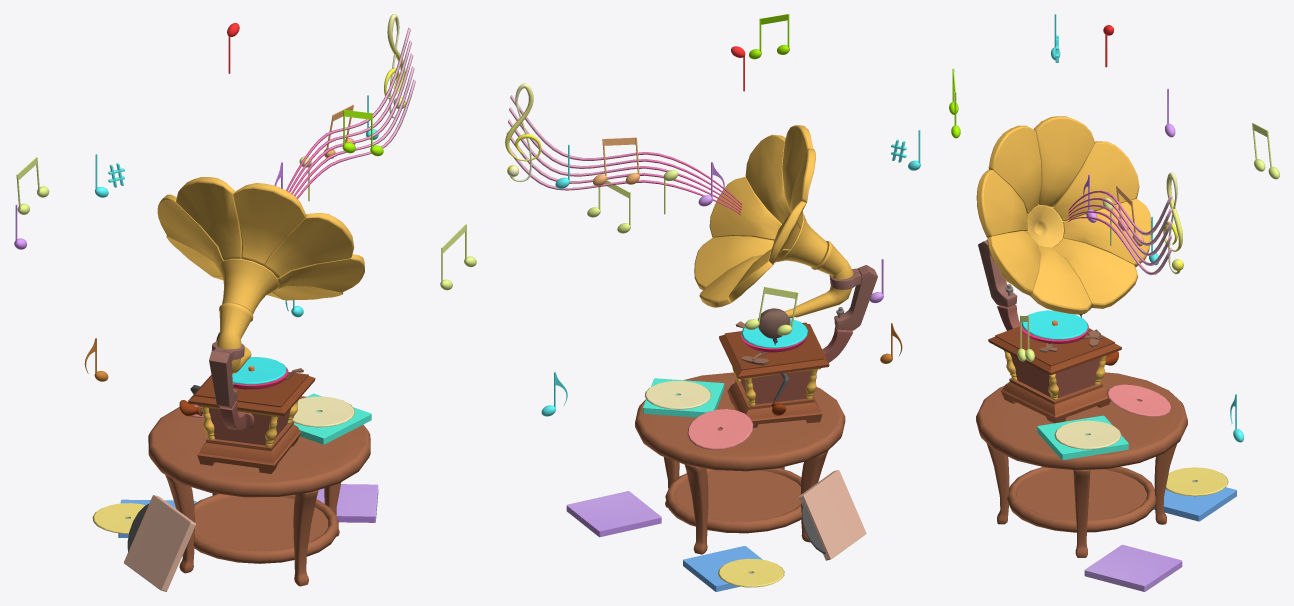
Rendered from Level_P_45.fbx.
3 renders of one model, left to right at view 1: azimuth 30°, elevation 25°; view 2: azimuth 150°, elevation 25°; view 3: azimuth 270°, elevation 25°, orthographic. The views are drawn at different scales.
Visible parts, largest first — view 1: Circle.008, Circle_Curve, Cube.556, VintagePlayer_010.007, VintagePlayer_010.006, VintagePlayer_010.008, BezierCurve.006, Vinyl_Record_21, Vinyl_Record_17, VintagePlayer_010.001, VintagePlayer_010.005, VintagePlayer_010.009 (+11 smaller); view 2: Circle.008, Circle_Curve, BezierCurve.006, Cube.556, VintagePlayer_010.005, Vinyl_Record_21, Cube.554, VintagePlayer_010.006, VintagePlayer_010.004, Vinyl_Record_17, Vinyl_Record_6, Cube.555 (+20 smaller); view 3: Circle.008, Circle_Curve, VintagePlayer_010.008, VintagePlayer_010.009, VintagePlayer_010.003, VintagePlayer_010.007, Cube.554, VintagePlayer_010.002, Vinyl_Record_21, VintagePlayer_010.004, VintagePlayer_010.006, Vinyl_Record_17 (+15 smaller).
Part boxes in pixels (left/top/right/bottom): Circle.008: left=148, top=396, right=370, bottom=497; Circle_Curve: left=193, top=494, right=338, bottom=563; Cube.556: left=124, top=495, right=195, bottom=591; VintagePlayer_010.007: left=233, top=183, right=305, bottom=265; VintagePlayer_010.006: left=263, top=213, right=354, bottom=277; VintagePlayer_010.008: left=176, top=177, right=242, bottom=260; BezierCurve.006: left=286, top=27, right=415, bottom=199; Vinyl_Record_21: left=188, top=372, right=315, bottom=415; Vinyl_Record_17: left=197, top=421, right=301, bottom=473; VintagePlayer_010.001: left=219, top=258, right=278, bottom=314; VintagePlayer_010.005: left=276, top=254, right=364, bottom=292; VintagePlayer_010.009: left=157, top=194, right=223, bottom=270; Circle.008: left=635, top=372, right=845, bottom=471; Circle_Curve: left=665, top=468, right=802, bottom=533; BezierCurve.006: left=506, top=95, right=742, bottom=214; Cube.556: left=798, top=470, right=866, bottom=560; VintagePlayer_010.005: left=709, top=177, right=781, bottom=240; Vinyl_Record_21: left=719, top=322, right=829, bottom=378; Cube.554: left=566, top=491, right=661, bottom=537; VintagePlayer_010.006: left=745, top=134, right=790, bottom=223; VintagePlayer_010.004: left=694, top=236, right=773, bottom=289; Vinyl_Record_17: left=727, top=379, right=822, bottom=427; Vinyl_Record_6: left=795, top=241, right=853, bottom=317; Cube.555: left=683, top=546, right=762, bottom=591; Circle.008: left=976, top=372, right=1187, bottom=470; Circle_Curve: left=1007, top=467, right=1156, bottom=532; VintagePlayer_010.008: left=1034, top=116, right=1094, bottom=206; VintagePlayer_010.009: left=1053, top=141, right=1139, bottom=220; VintagePlayer_010.003: left=1053, top=238, right=1137, bottom=308; VintagePlayer_010.007: left=988, top=125, right=1041, bottom=214; Cube.554: left=1084, top=545, right=1182, bottom=591; VintagePlayer_010.002: left=1063, top=199, right=1151, bottom=266; Vinyl_Record_21: left=988, top=326, right=1121, bottom=375; VintagePlayer_010.004: left=1030, top=245, right=1091, bottom=314; VintagePlayer_010.006: left=976, top=169, right=1027, bottom=237; Vinyl_Record_17: left=1001, top=378, right=1110, bottom=423.
Bounding box in the file's own units: 17.17 × 21.28 × 12.97.
